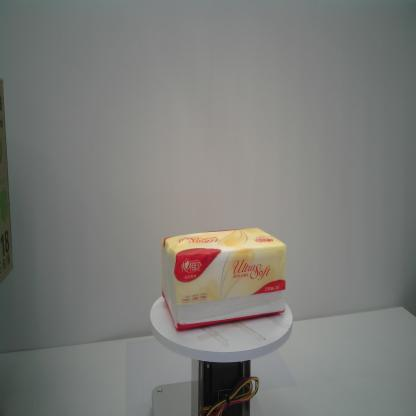Tissue: (160, 225, 288, 331)
